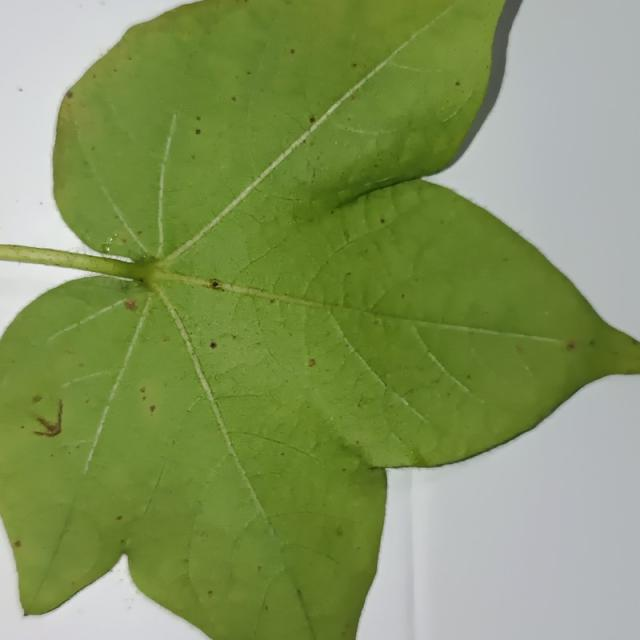Bacterial_Blight: (235, 185, 289, 231), (31, 399, 65, 438), (132, 266, 166, 293), (557, 337, 602, 354), (130, 253, 161, 276), (35, 251, 79, 264), (621, 348, 638, 374), (102, 234, 125, 253), (119, 279, 136, 292), (295, 587, 305, 607), (124, 297, 138, 311), (101, 242, 113, 253), (335, 526, 344, 537), (357, 398, 366, 408), (104, 237, 114, 246), (307, 358, 316, 367), (566, 342, 575, 351), (211, 280, 220, 289), (32, 395, 42, 403), (515, 345, 523, 354), (124, 538, 132, 547), (23, 611, 32, 619), (149, 404, 156, 414), (634, 336, 640, 347), (14, 540, 22, 548), (65, 91, 73, 99), (210, 340, 217, 349), (162, 335, 170, 342), (374, 318, 382, 325), (186, 403, 192, 412), (309, 116, 316, 123), (589, 339, 596, 346), (345, 271, 352, 278), (385, 372, 391, 380), (140, 386, 146, 393), (120, 237, 127, 243), (269, 298, 276, 304), (196, 115, 201, 121), (195, 129, 201, 134), (116, 515, 122, 520), (455, 81, 461, 86), (351, 62, 357, 67), (139, 278, 145, 283), (466, 374, 471, 380), (264, 605, 269, 611), (120, 539, 125, 545), (380, 218, 385, 223), (290, 49, 295, 54), (246, 70, 251, 75), (231, 96, 236, 101), (208, 590, 213, 595), (137, 230, 142, 235), (142, 395, 146, 401), (401, 293, 405, 299), (20, 425, 25, 429)
Cotton: (0, 0, 639, 639)
